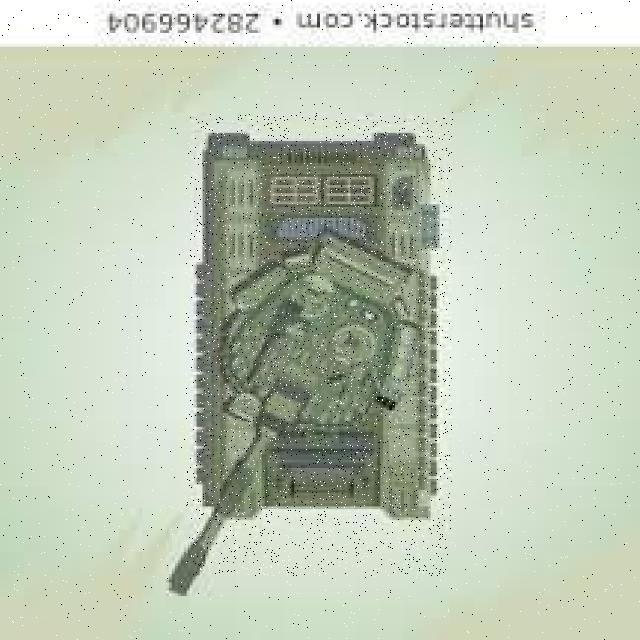MIL_MBT: (186, 115, 452, 576)
